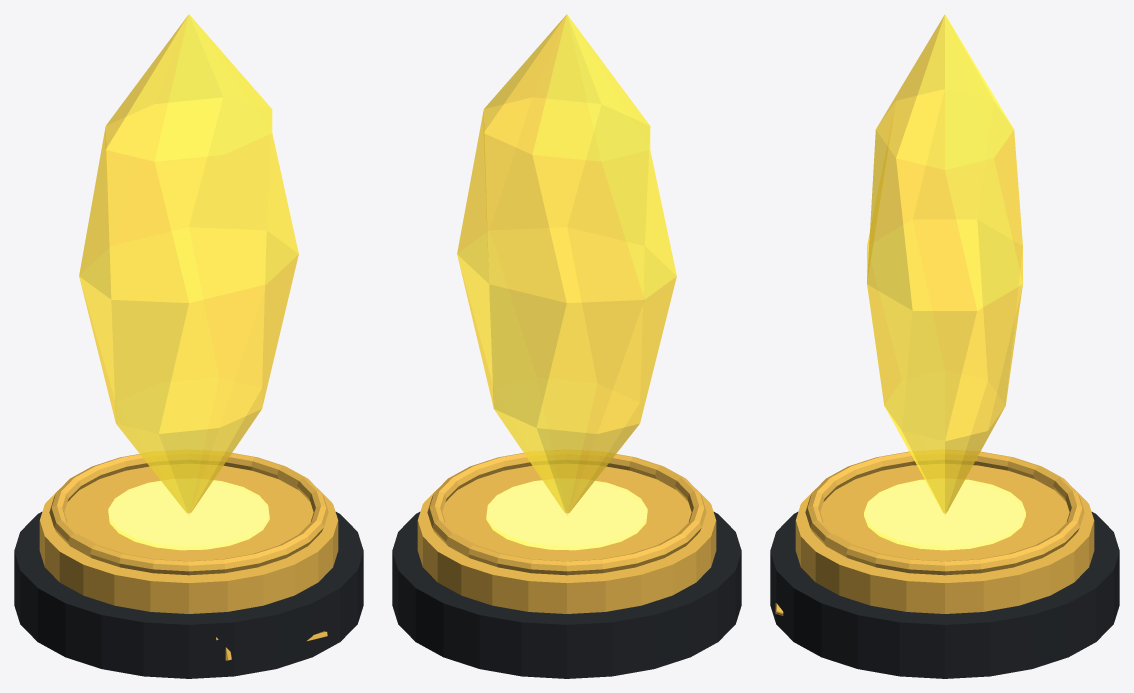
File: topaz_shard.glb
The picture shows the model from 3 angles, left to right: view 1: azimuth 30°, elevation 25°; view 2: azimuth 150°, elevation 25°; view 3: azimuth 270°, elevation 25°; orthographic projection.
Parts seen in each view (by area): view 1: topaz_crystal_body, topaz_display_base_black_gold, topaz_display_base_top, topaz_colored_light_pad, topaz_gold_base_ring; view 2: topaz_crystal_body, topaz_display_base_black_gold, topaz_display_base_top, topaz_colored_light_pad, topaz_gold_base_ring; view 3: topaz_crystal_body, topaz_display_base_black_gold, topaz_display_base_top, topaz_colored_light_pad, topaz_gold_base_ring.
Part boxes in pixels (x1,y1,x2,y2): topaz_crystal_body: (79,14,298,514); topaz_display_base_black_gold: (14,512,363,678); topaz_display_base_top: (39,464,338,613); topaz_colored_light_pad: (108,479,269,550); topaz_gold_base_ring: (49,450,328,575); topaz_crystal_body: (457,14,676,514); topaz_display_base_black_gold: (392,512,741,678); topaz_display_base_top: (417,464,716,613); topaz_colored_light_pad: (486,479,647,550); topaz_gold_base_ring: (427,450,706,575); topaz_crystal_body: (867,14,1022,514); topaz_display_base_black_gold: (770,512,1119,678); topaz_display_base_top: (795,464,1094,613); topaz_colored_light_pad: (864,479,1025,550); topaz_gold_base_ring: (805,450,1084,575).
Bounding box in the file's own units: 1.64 × 3.06 × 1.64.
